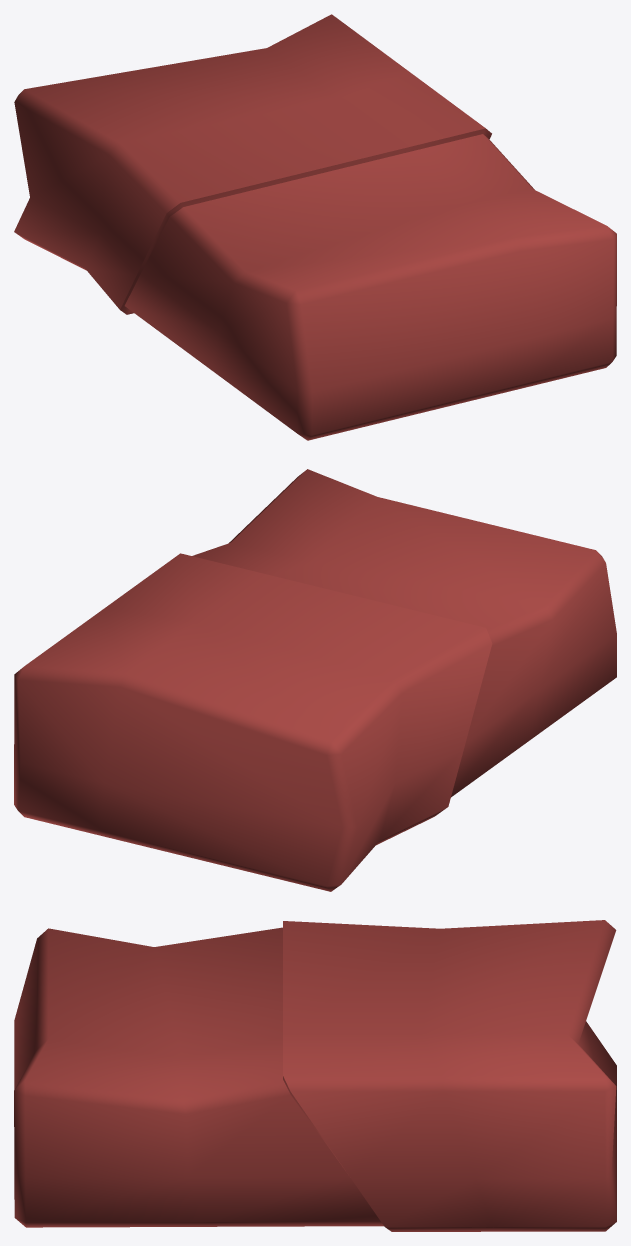
The model's file is cigarbox.glb.
3 renders of one model, top to bottom at view 1: azimuth 30°, elevation 25°; view 2: azimuth 150°, elevation 25°; view 3: azimuth 270°, elevation 25°, orthographic. The views are drawn at different scales.
Visible parts, largest first — view 1: prop_cigarbox; view 2: prop_cigarbox; view 3: prop_cigarbox.
Boxes of the visible parts, x1,y1,x2,y2 form: prop_cigarbox: [14, 14, 616, 440]; prop_cigarbox: [14, 469, 616, 891]; prop_cigarbox: [14, 920, 616, 1231].
Size of the model in its own units: 0.0903 by 0.0396 by 0.1385.
